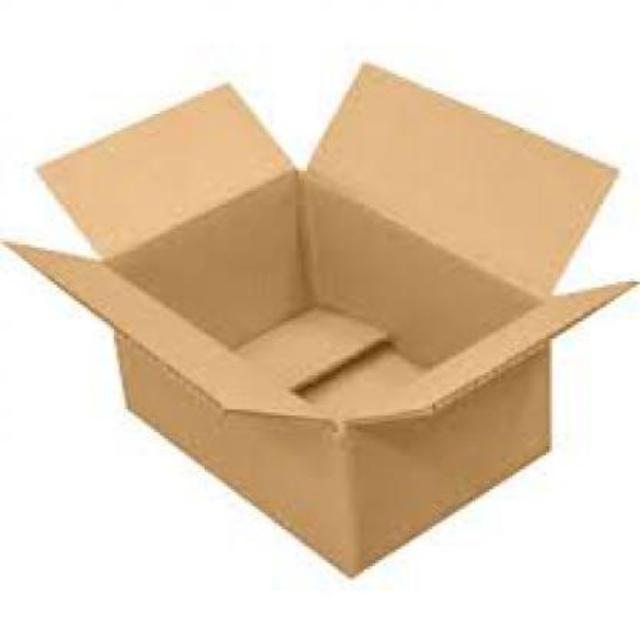cardboard_box: (20, 70, 630, 590)
